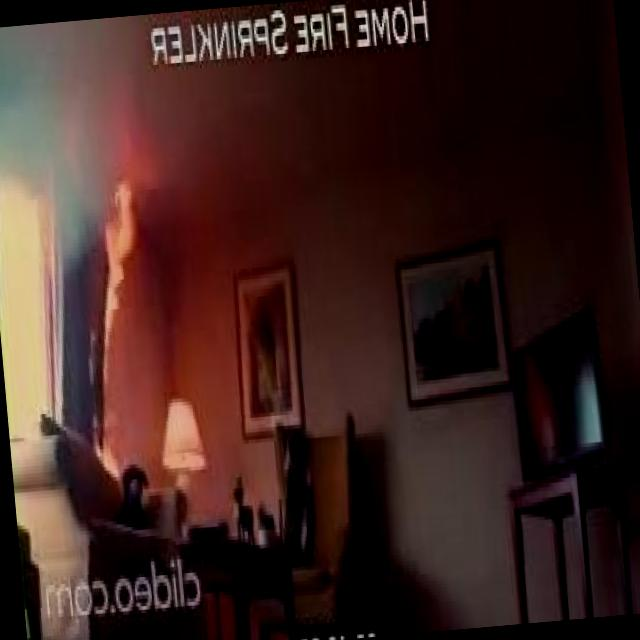fire: (48, 129, 183, 471)
